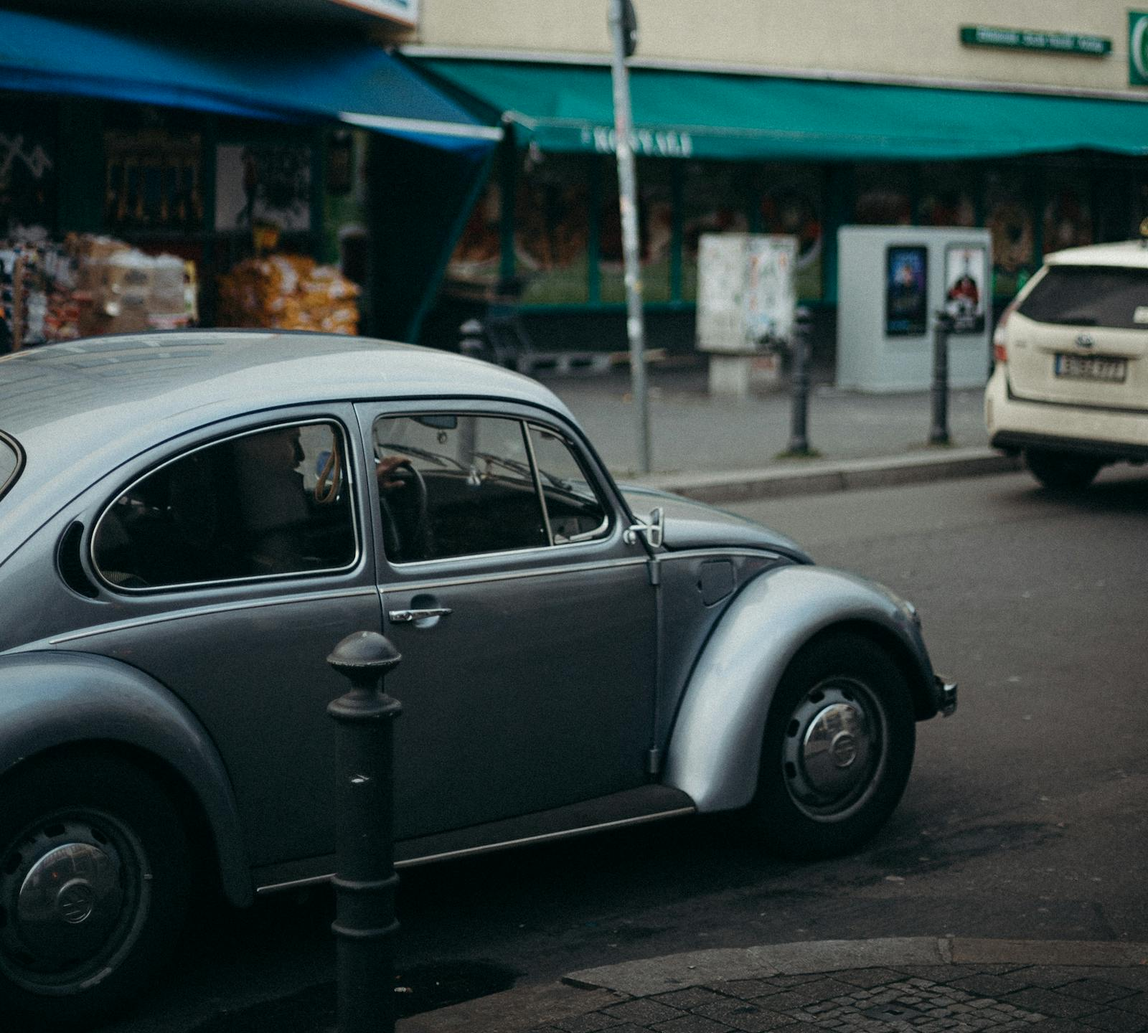other: (0, 324, 971, 1020), (978, 230, 1148, 499)
